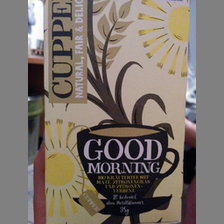tea: (43, 1, 192, 224)
